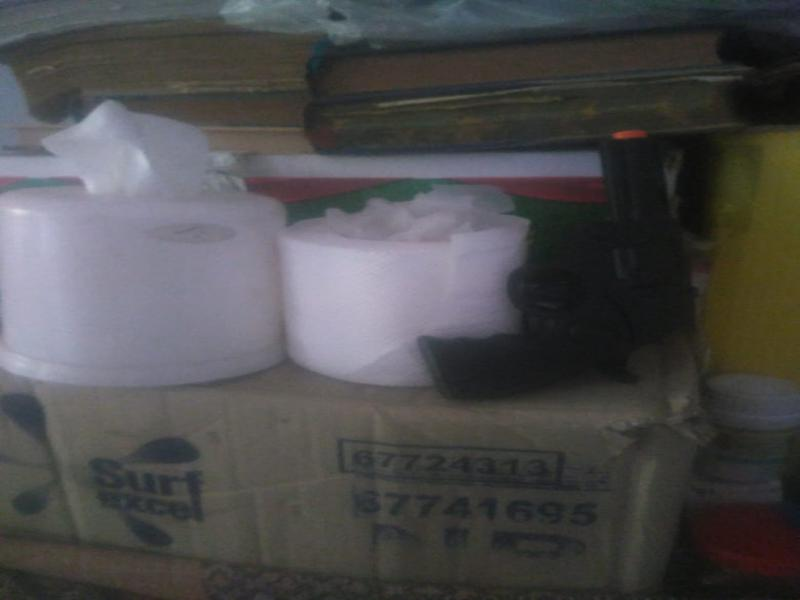gun: (417, 117, 722, 399)
